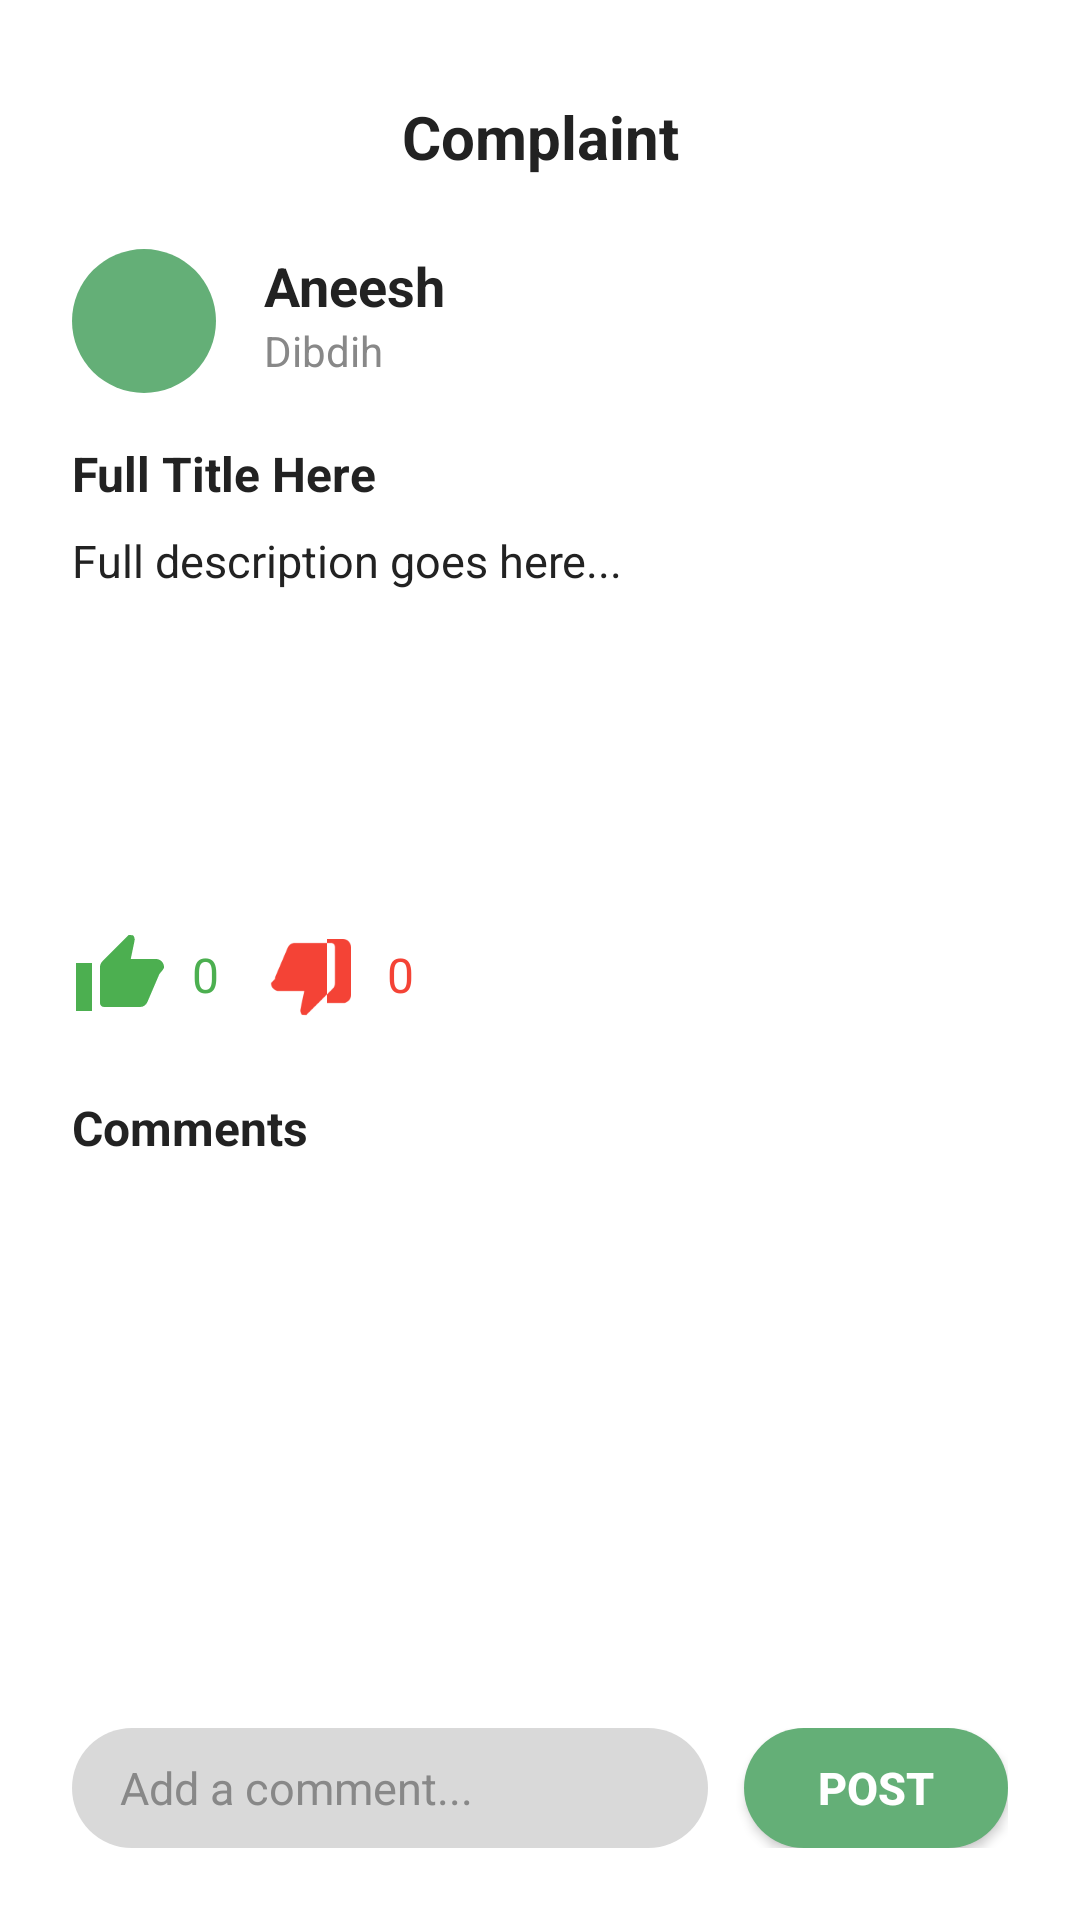

Locate icon controls on the screen. Image size 1080 x 1920, boxes as box(x1, y1, x2, y2).
thumb down: box(271, 939, 351, 1015)
thumb up: box(76, 935, 164, 1011)
